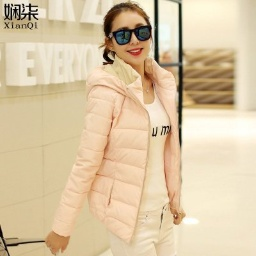face: (102, 1, 158, 64)
